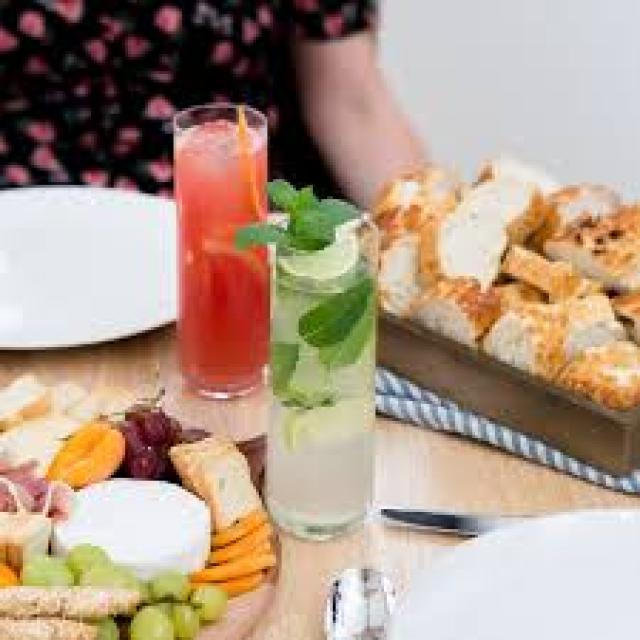Cans: (156, 99, 276, 387)
